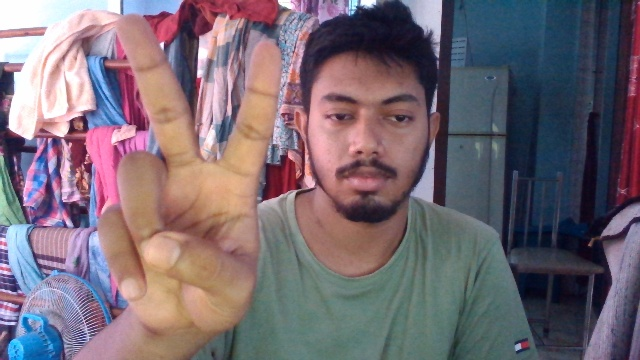thanks: (96, 8, 283, 327)
